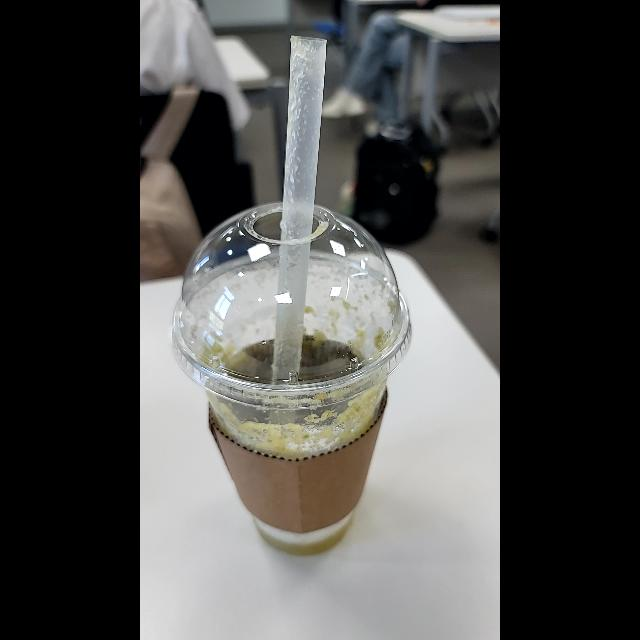plastic_cup: (170, 202, 410, 554)
plastic_cup_lid: (168, 204, 414, 410)
straw: (268, 26, 330, 386)
